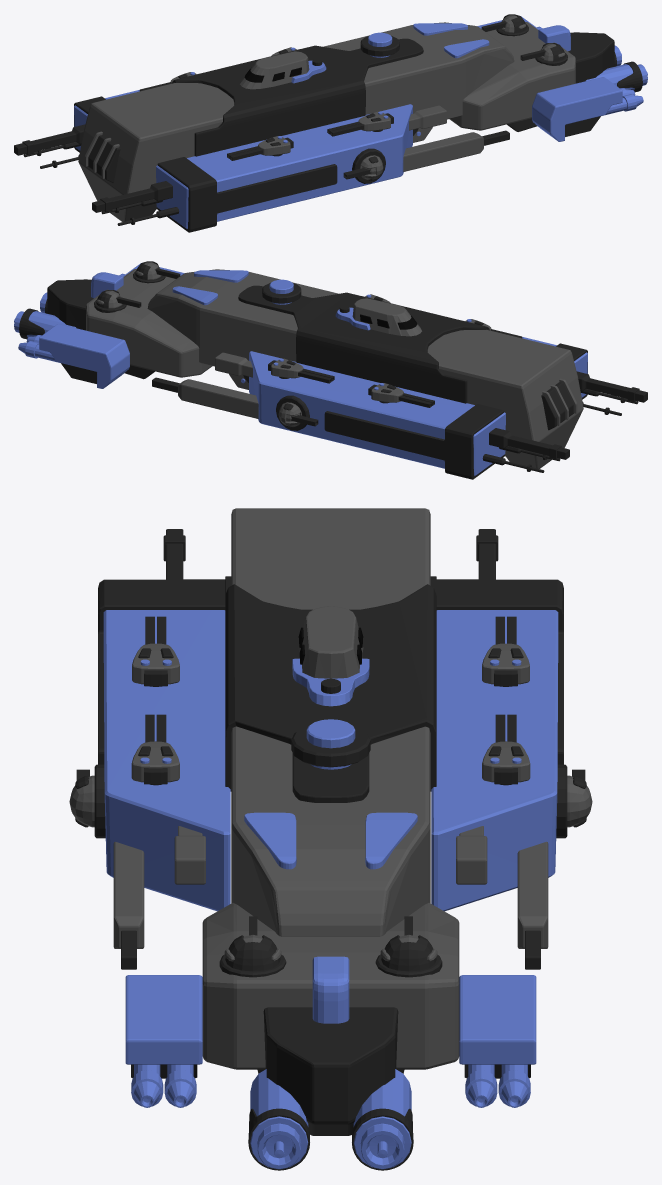
Rendered from fga_destroyer4.glb.
3 views of the same model, one above another, from view 1: azimuth 30°, elevation 25°; view 2: azimuth 150°, elevation 25°; view 3: azimuth 270°, elevation 25° (orthographic). The views are drawn at different scales.
Parts seen in each view (by area): view 1: Destroyer_4; view 2: Destroyer_4; view 3: Destroyer_4.
Boxes of the visible parts, left/top/right/bottom form: Destroyer_4: left=14, top=14, right=647, bottom=232; Destroyer_4: left=14, top=261, right=647, bottom=479; Destroyer_4: left=69, top=508, right=592, bottom=1170.
Bounding box in the file's own units: 9074 × 1789 × 3550.
1 material, 1 textured.
